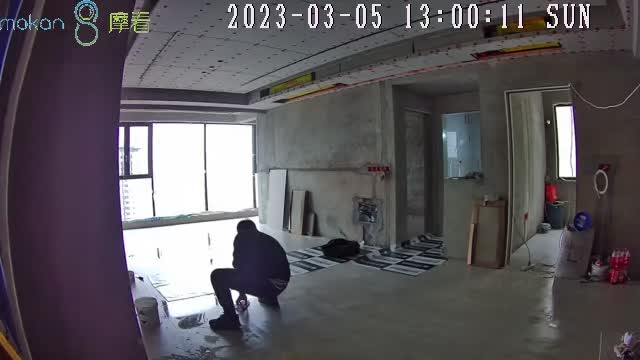people: (210, 220, 292, 325)
window: (119, 122, 256, 213)
